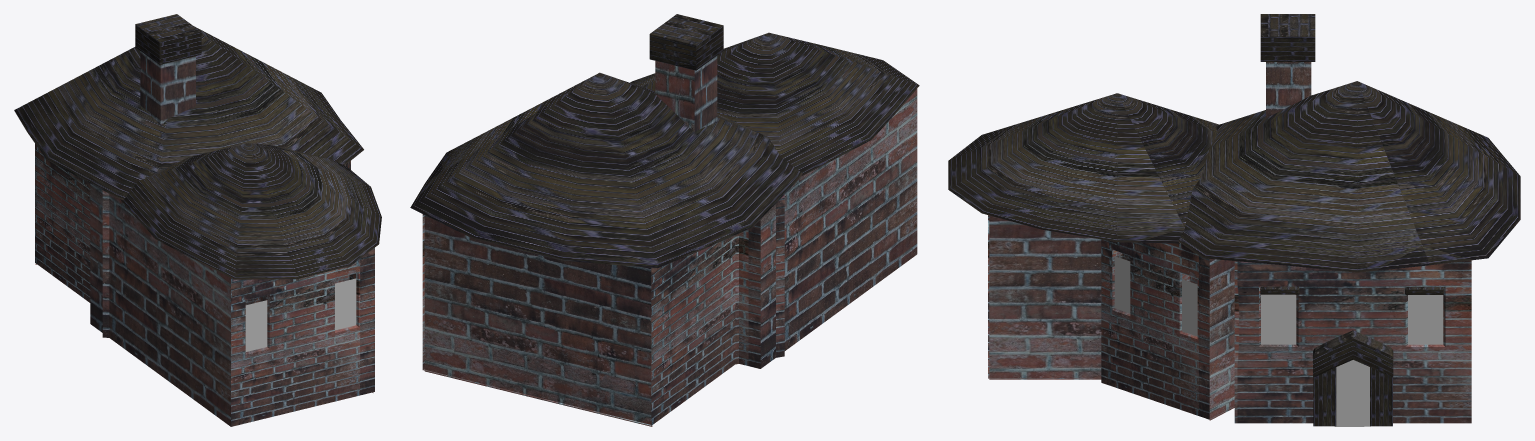
Rendered from house.fbx.
3 renders of one model, left to right at view 1: azimuth 30°, elevation 25°; view 2: azimuth 150°, elevation 25°; view 3: azimuth 270°, elevation 25°, orthographic. The views are drawn at different scales.
Visible parts, largest first — view 1: polySurface119, pCone1, pCone2, polySurface114, pCube74, pCube75, polySurface120; view 2: pCone1, polySurface114, polySurface119, pCone2, pCube74, pCube75, polySurface120; view 3: pCone1, polySurface114, pCone2, polySurface120, polySurface119, pCube75, pCube28, polySurface115, pCube74, pCube30, pCube31.
Boxes of the visible parts, <box> form: polySurface119: <box>90,183,374,426</box>; pCone1: <box>14,26,363,200</box>; pCone2: <box>120,143,381,279</box>; polySurface114: <box>35,144,90,302</box>; pCube74: <box>140,51,195,125</box>; pCube75: <box>135,14,201,64</box>; polySurface120: <box>102,161,350,337</box>; pCone1: <box>410,72,802,268</box>; polySurface114: <box>422,214,735,426</box>; polySurface119: <box>739,87,917,368</box>; pCone2: <box>630,32,919,175</box>; pCube74: <box>655,55,717,132</box>; pCube75: <box>649,14,723,70</box>; polySurface120: <box>735,194,784,364</box>; pCone1: <box>1178,81,1520,272</box>; polySurface114: <box>1234,260,1471,423</box>; pCone2: <box>948,93,1218,243</box>; polySurface120: <box>1101,239,1234,420</box>; polySurface119: <box>988,215,1101,379</box>; pCube75: <box>1260,14,1315,61</box>; pCube28: <box>1313,330,1393,376</box>; polySurface115: <box>1334,360,1370,426</box>; pCube74: <box>1266,62,1311,118</box>; pCube30: <box>1313,367,1336,426</box>; pCube31: <box>1370,367,1392,426</box>.
Size of the model in its own units: 7.78 by 7.68 by 12.61.
